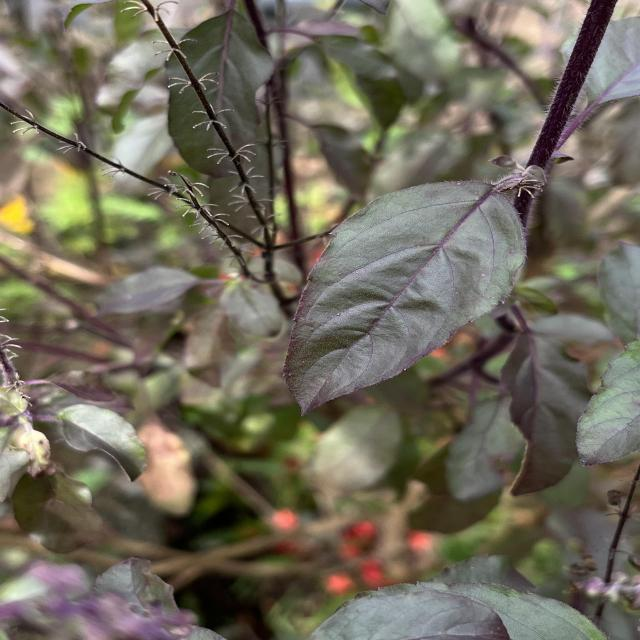Ocimum tenuiflorum: (282, 178, 530, 417)
